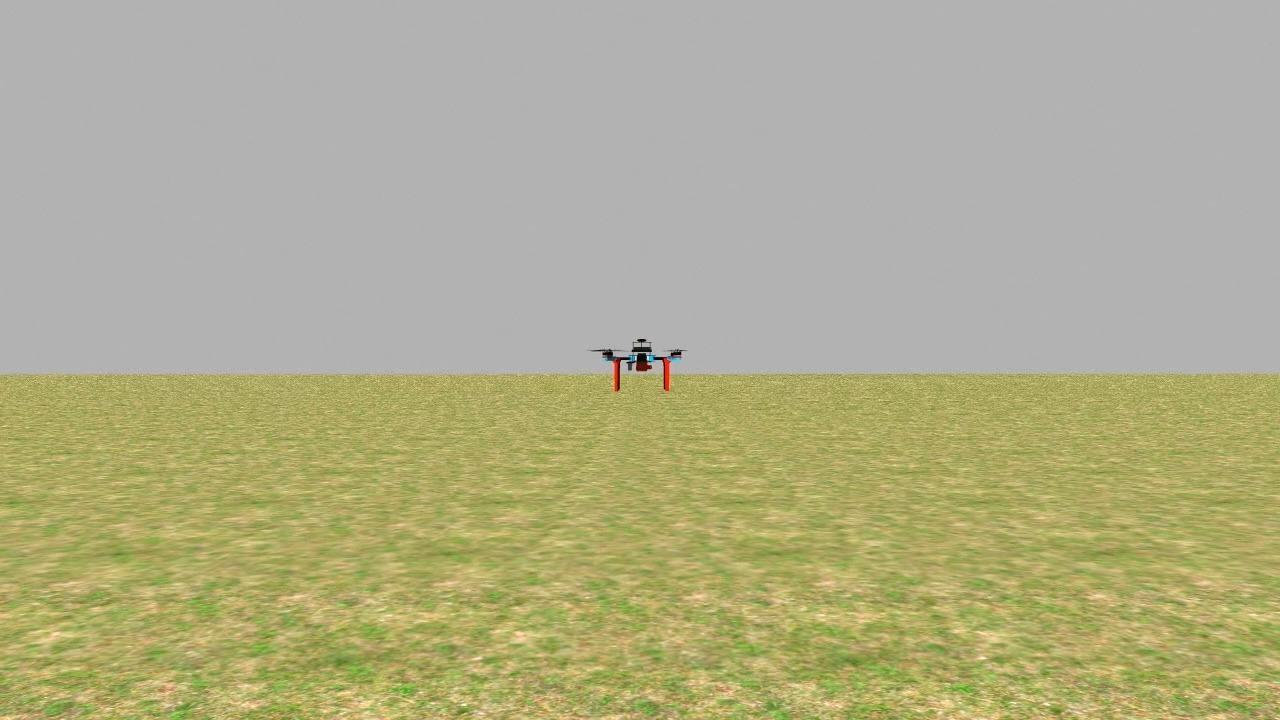UAV: (589, 328, 690, 394)
